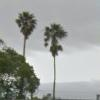Tree: (3, 10, 44, 84)
